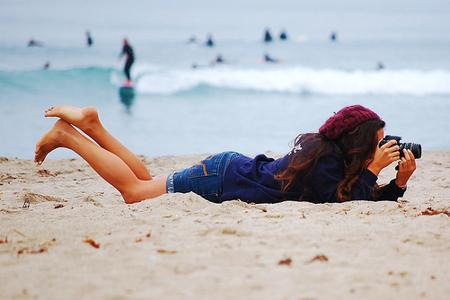person: (34, 103, 419, 205)
